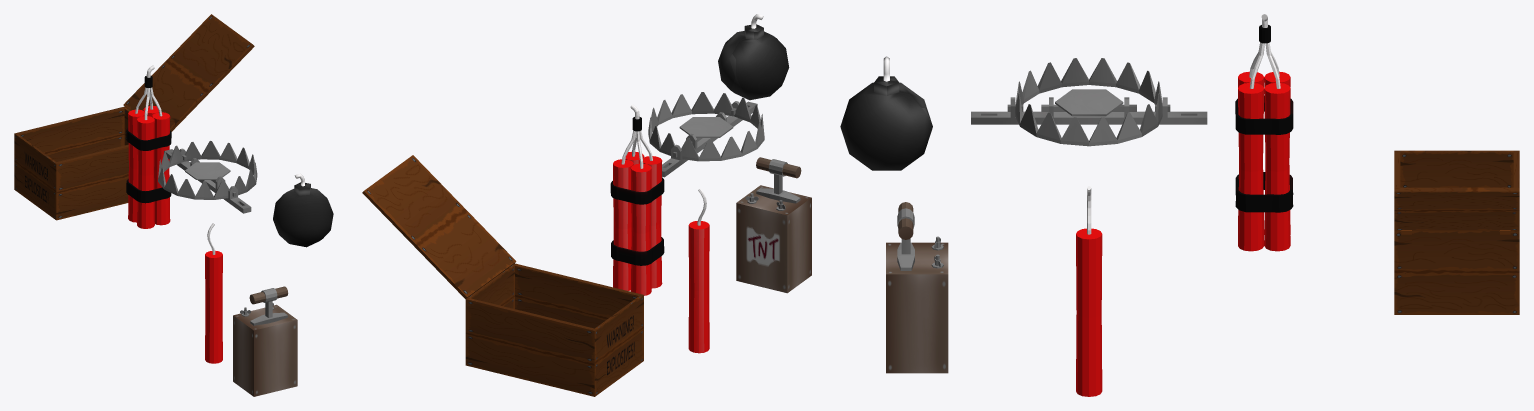
File: Trap.fbx
The picture shows the model from 3 angles, left to right: view 1: azimuth 30°, elevation 25°; view 2: azimuth 150°, elevation 25°; view 3: azimuth 270°, elevation 25°; orthographic projection. The views are drawn at different scales.
Visible parts, largest first — view 1: Cube.001, Cube, TNT 4, Trap, Icosphere, TNT Solo; view 2: Cube.001, Cube, TNT 4, Trap, Icosphere, TNT Solo; view 3: Cube.001, TNT 4, Trap, Cube, Icosphere, TNT Solo.
Part boxes in pixels (left/top/right/bottom): Cube.001: left=14, top=14, right=254, bottom=220; Cube: left=233, top=286, right=297, bottom=396; TNT 4: left=126, top=65, right=171, bottom=228; Trap: left=158, top=140, right=257, bottom=213; Icosphere: left=273, top=173, right=333, bottom=247; TNT Solo: left=205, top=223, right=222, bottom=363; Cube.001: left=362, top=155, right=643, bottom=396; Cube: left=736, top=157, right=811, bottom=293; TNT 4: left=610, top=104, right=664, bottom=295; Trap: left=648, top=92, right=764, bottom=177; Icosphere: left=718, top=14, right=789, bottom=100; TNT Solo: left=688, top=188, right=709, bottom=353; Cube.001: left=1394, top=150, right=1519, bottom=314; TNT 4: left=1235, top=14, right=1293, bottom=251; Trap: left=971, top=58, right=1207, bottom=146; Cube: left=886, top=202, right=948, bottom=373; Icosphere: left=840, top=56, right=932, bottom=170; TNT Solo: left=1076, top=186, right=1102, bottom=396.
Size of the model in its own units: 738 by 895 by 1465.
Materials: 7 (7 with a texture image).
